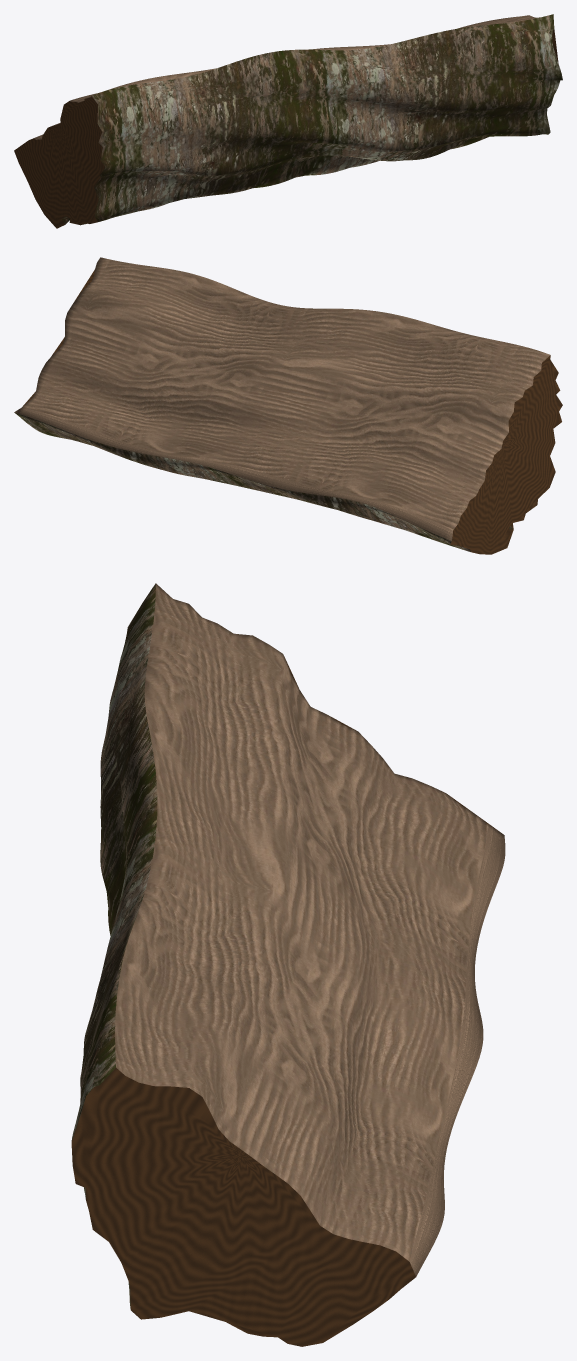
Rendered from dry-oak-wood_V019_original.glb.
3 views of the same model, one above another, from view 1: azimuth 30°, elevation 25°; view 2: azimuth 150°, elevation 25°; view 3: azimuth 270°, elevation 25° (orthographic). The views are drawn at different scales.
Visible parts, largest first — view 1: oak_single_split_bark_forward; view 2: oak_single_split_bark_forward; view 3: oak_single_split_bark_forward.
Part boxes in pixels (left/top/right/bottom): oak_single_split_bark_forward: left=14, top=14, right=562, bottom=228; oak_single_split_bark_forward: left=14, top=257, right=562, bottom=554; oak_single_split_bark_forward: left=71, top=583, right=505, bottom=1346.
Bounding box in the file's own units: 1.43 × 0.4902 × 0.5798.
Materials: 3 (3 with a texture image).
